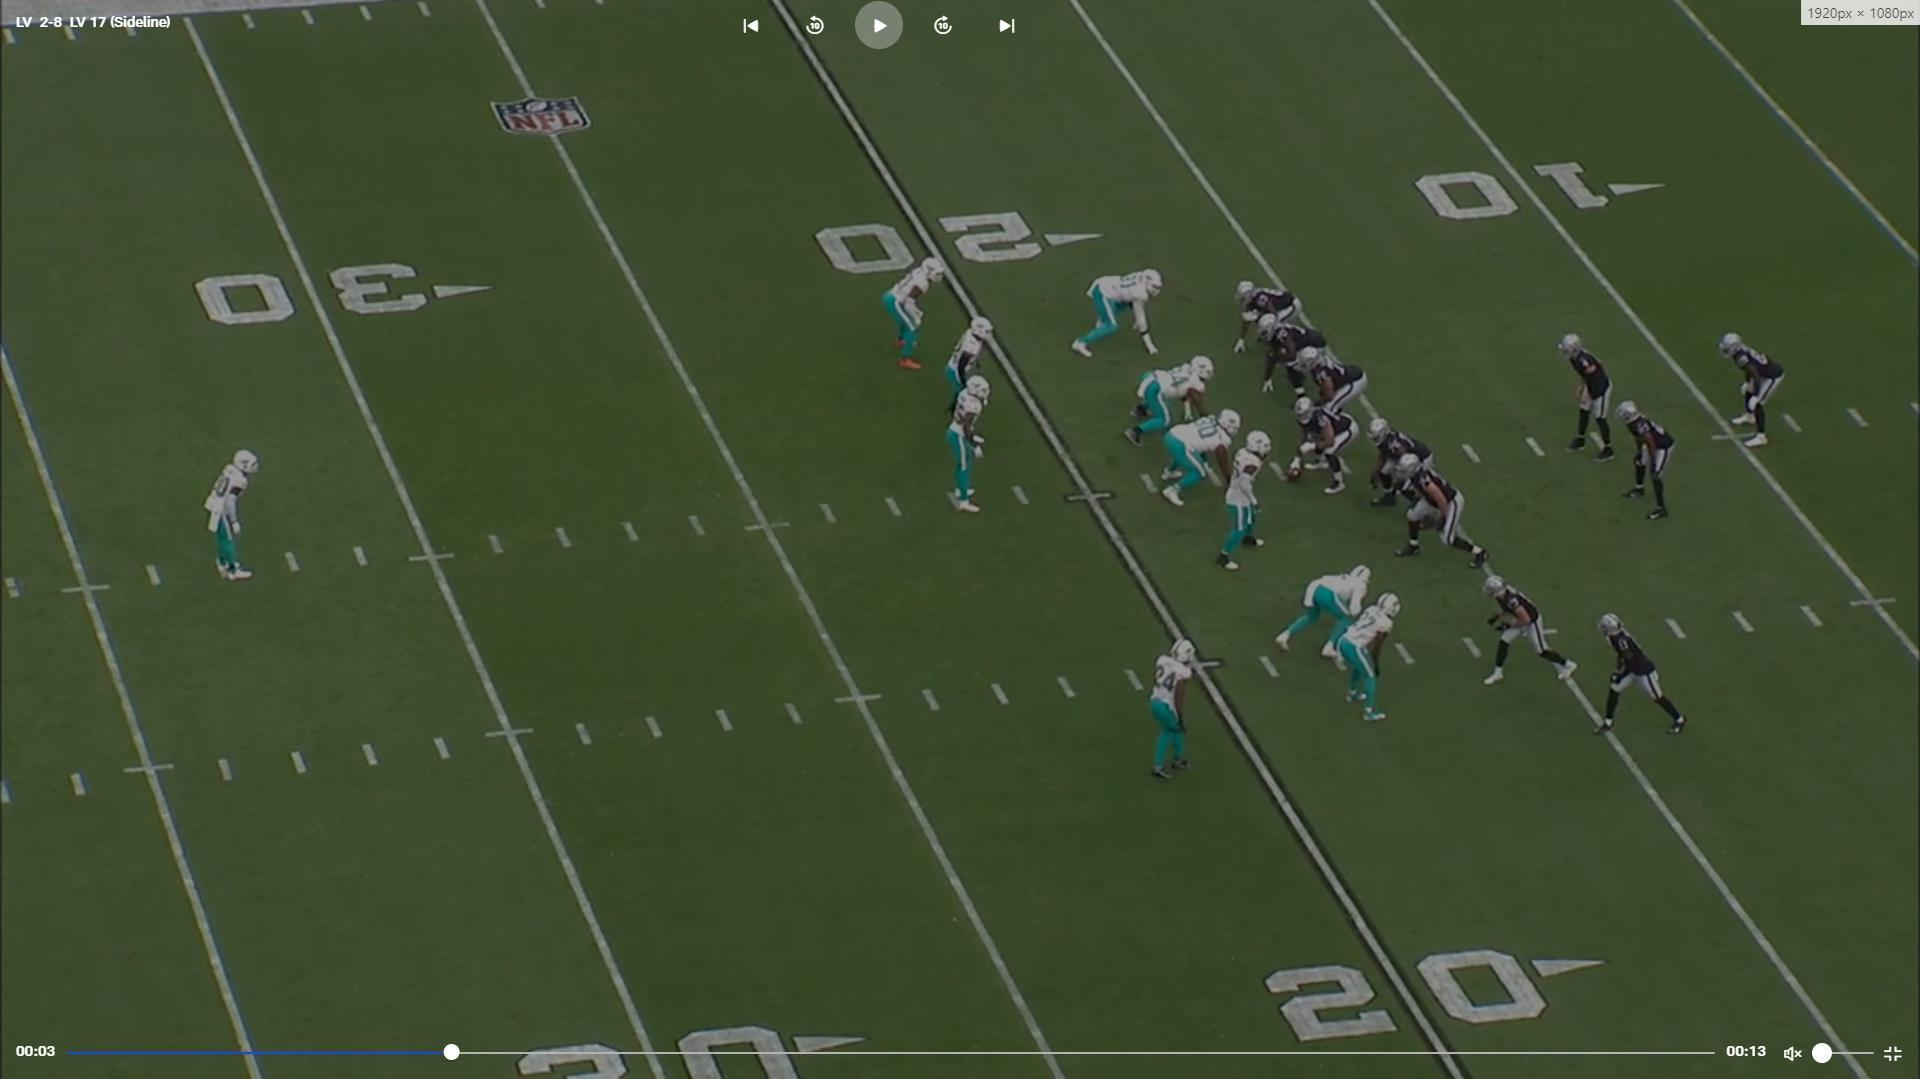player: (1583, 608, 1690, 749), (1478, 568, 1582, 692), (1390, 455, 1490, 571), (1271, 560, 1383, 657), (1066, 265, 1167, 365), (1220, 424, 1283, 575), (1333, 587, 1399, 728), (1157, 407, 1244, 513), (1119, 351, 1210, 449), (1146, 632, 1202, 789), (1618, 399, 1684, 530), (1713, 330, 1782, 453), (204, 442, 264, 583), (1564, 329, 1626, 465), (945, 370, 998, 523), (888, 251, 951, 374), (1285, 398, 1360, 500), (1372, 417, 1444, 522), (1254, 315, 1331, 403), (1232, 279, 1309, 359), (1296, 349, 1375, 423), (952, 314, 1002, 421)
